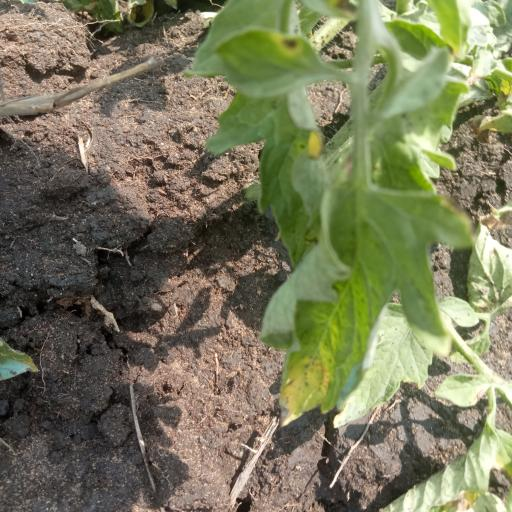Tomato_Brown_Spots: (262, 148, 474, 430), (184, 26, 342, 102)
